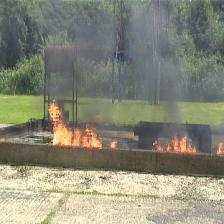fire: (48, 99, 103, 148), (153, 134, 200, 152)
